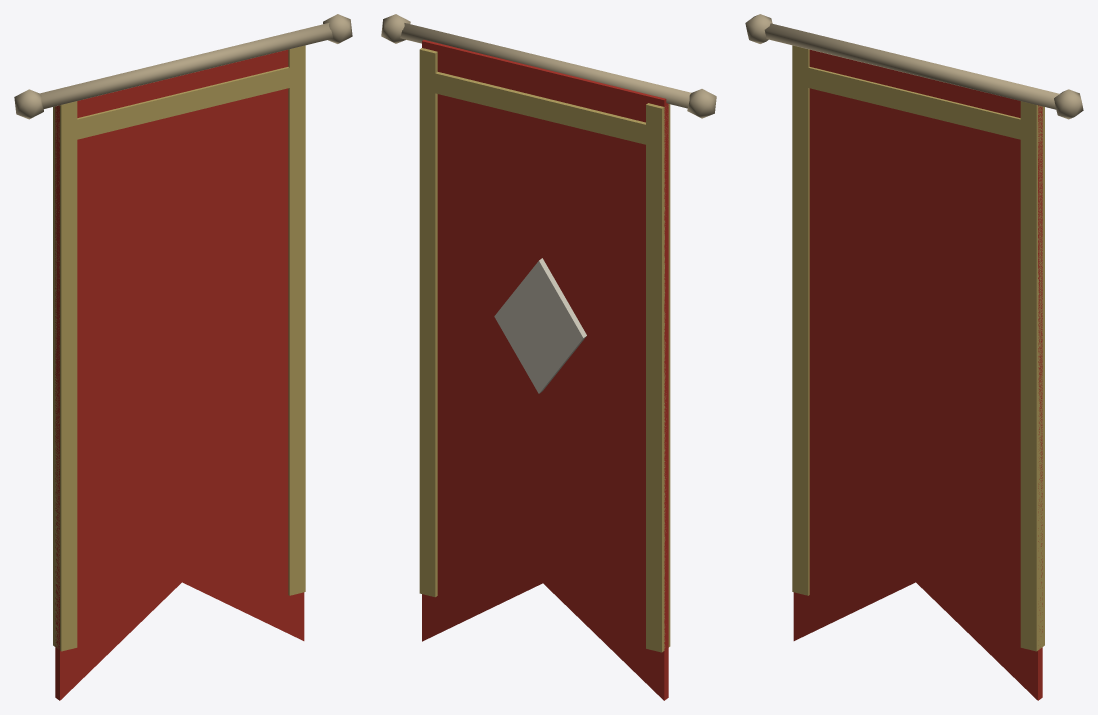
File: red_devil_banner_v0.glb
The picture shows the model from 3 angles, left to right: view 1: azimuth 30°, elevation 25°; view 2: azimuth 150°, elevation 25°; view 3: azimuth 330°, elevation 25°; orthographic projection.
Visible parts, largest first — view 1: red_devil_banner_v0; view 2: red_devil_banner_v0; view 3: red_devil_banner_v0.
Boxes of the visible parts, <box> form: red_devil_banner_v0: <box>14,14,352,700</box>; red_devil_banner_v0: <box>381,14,716,700</box>; red_devil_banner_v0: <box>745,14,1083,700</box>.
Size of the model in its own units: 1.04 by 1.84 by 0.0933.
